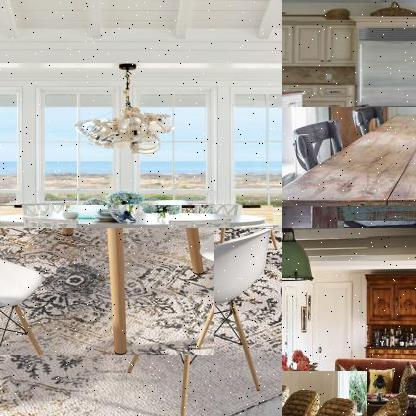table: (0, 228, 216, 357), (282, 107, 415, 227), (0, 205, 275, 227)
